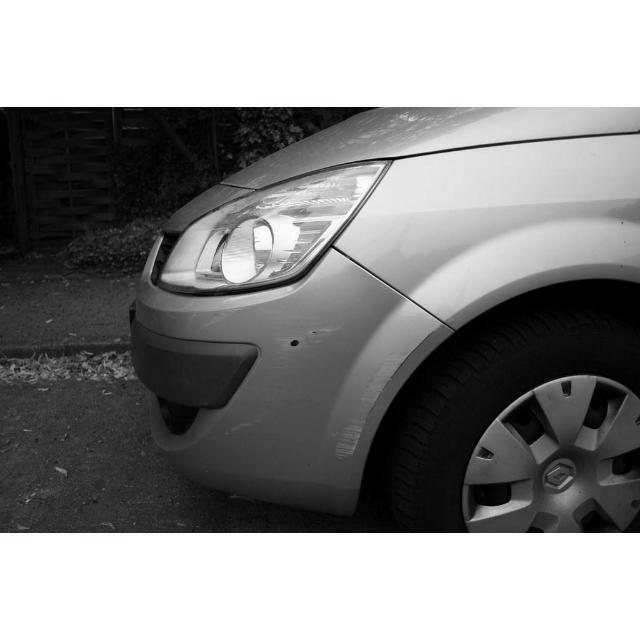front-bumper-dent: (149, 294, 374, 479)
